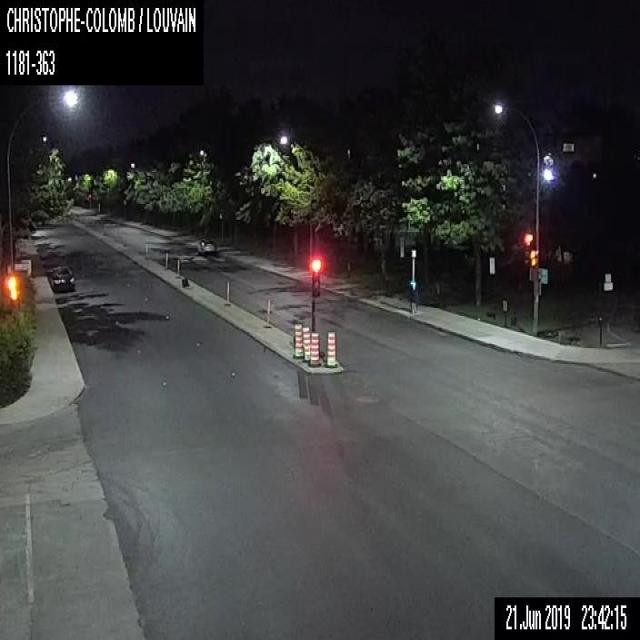construction: (308, 332, 320, 366), (292, 322, 303, 358), (324, 328, 334, 367), (301, 325, 309, 361)
vehicle: (48, 264, 74, 291), (196, 236, 217, 254)
